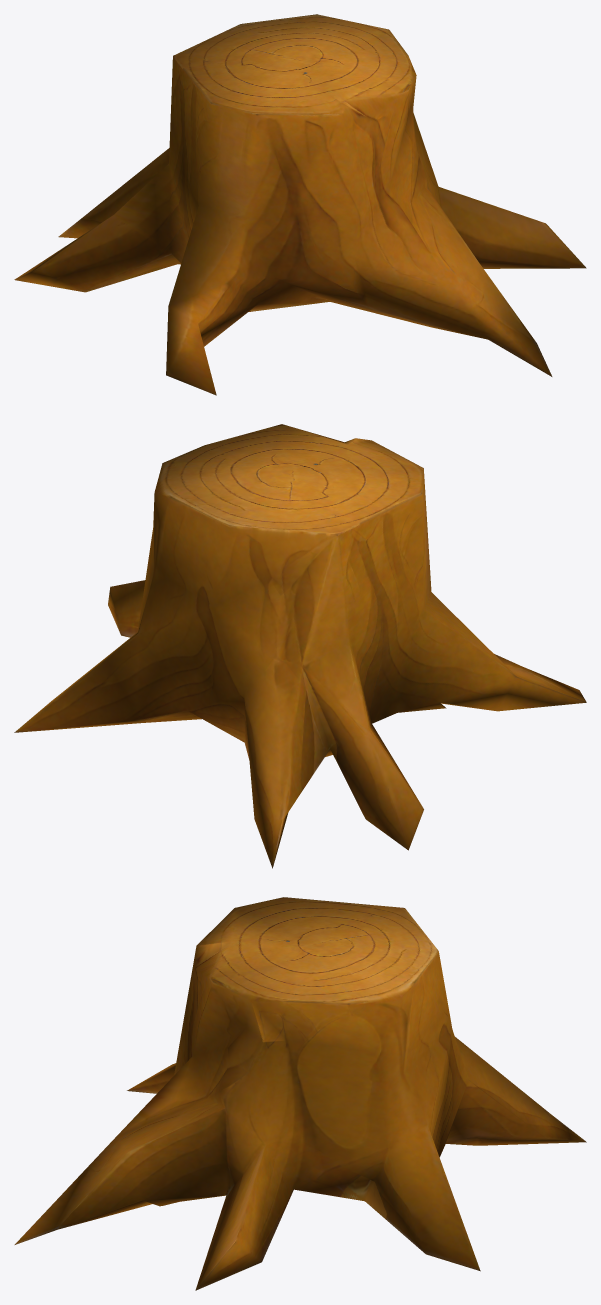
Rendered from Stump_Serenity_0617034045_texture.fbx.
The picture shows the model from 3 angles, top to bottom: view 1: azimuth 30°, elevation 25°; view 2: azimuth 150°, elevation 25°; view 3: azimuth 270°, elevation 25°; orthographic projection. The views are drawn at different scales.
Parts seen in each view (by area): view 1: Mesh1; view 2: Mesh1; view 3: Mesh1.
Part boxes in pixels (bbox=[...]): Mesh1: bbox=[14, 14, 586, 395]; Mesh1: bbox=[14, 424, 586, 868]; Mesh1: bbox=[14, 897, 586, 1290].
Bounding box in the file's own units: 185 × 101 × 204.
1 material, 1 textured.
